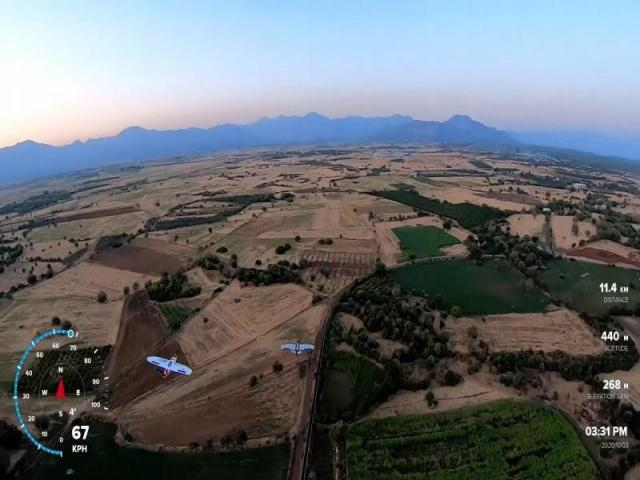hedef: (144, 355, 193, 383), (274, 338, 320, 360)
